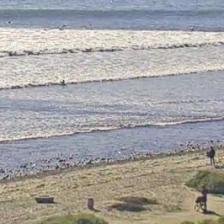surfer: (60, 80, 66, 85), (60, 26, 66, 30), (189, 28, 196, 31), (43, 28, 48, 32), (8, 21, 11, 24)
